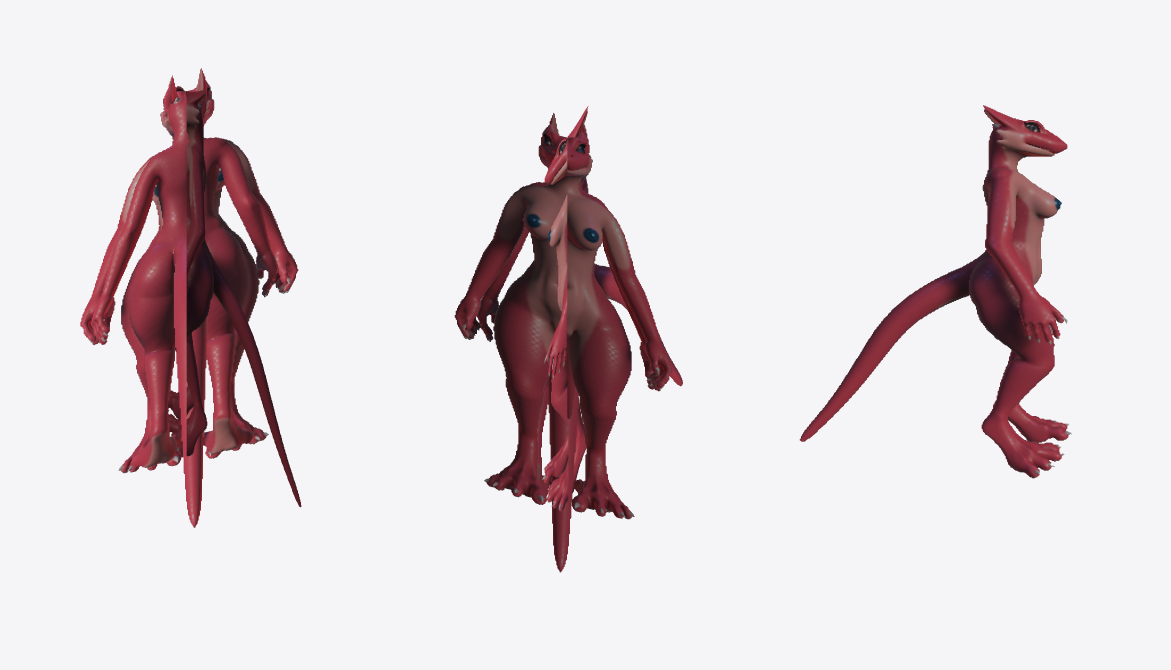
File: KoboldImposter.fbx
3 views of the same model, side by side, from view 1: azimuth 30°, elevation 25°; view 2: azimuth 150°, elevation 25°; view 3: azimuth 270°, elevation 25° (orthographic). The views are drawn at different scales.
Visible parts, largest first — view 1: KoboldImposter; view 2: KoboldImposter; view 3: KoboldImposter.
Part boxes in pixels (left/top/right/bottom): KoboldImposter: left=80, top=68, right=301, bottom=527; KoboldImposter: left=454, top=106, right=682, bottom=572; KoboldImposter: left=799, top=105, right=1071, bottom=478.
Bounding box in the file's own units: 1.47 × 2 × 1.47.
